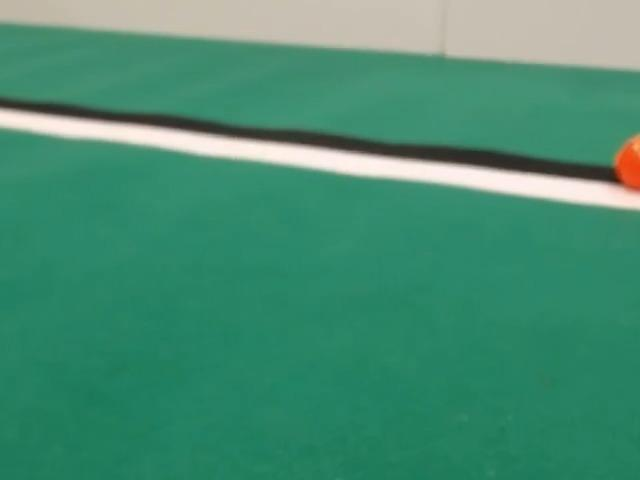Ball: (614, 135, 640, 191)
